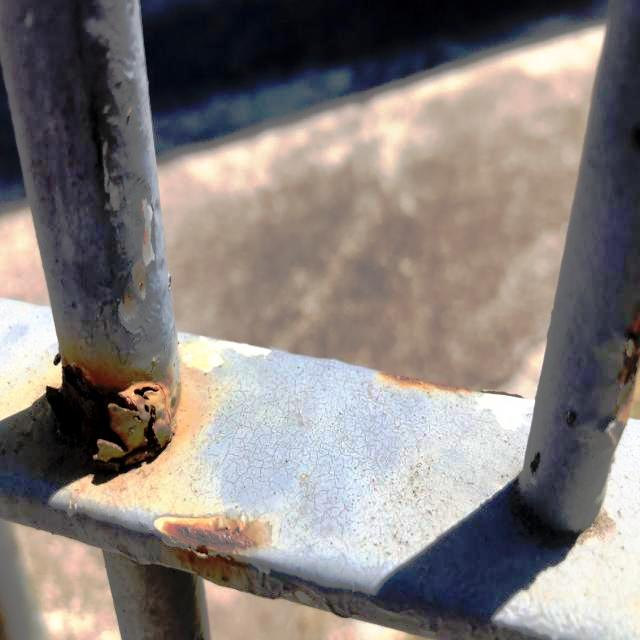Corrosion: (42, 342, 183, 466), (150, 507, 272, 568), (374, 370, 517, 399), (118, 246, 153, 330), (614, 311, 639, 422)
